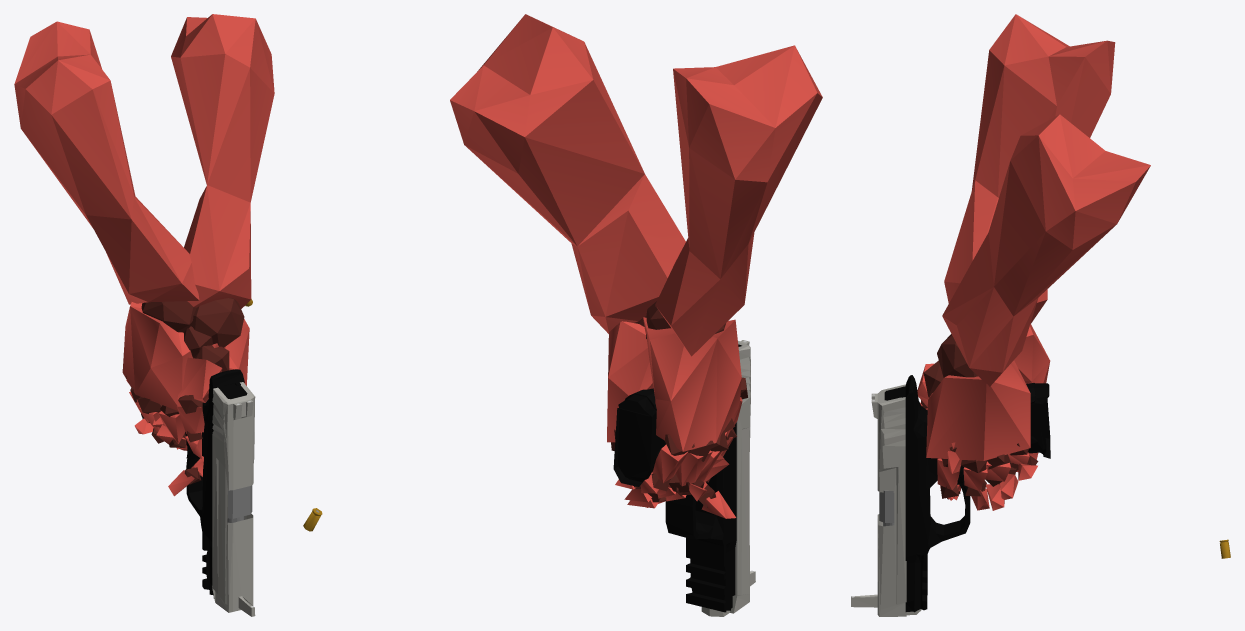
Rendered from M&P9shootLowP_000210.obj.
The picture shows the model from 3 angles, left to right: view 1: azimuth 30°, elevation 25°; view 2: azimuth 150°, elevation 25°; view 3: azimuth 270°, elevation 25°; orthographic projection. The views are drawn at different scales.
Visible parts, largest first — view 1: Beta_Surface.001_Beta_Surface.002, slide_平面.002, Beta_Joints.001_Beta_Joints.002, triger_平面.001; view 2: Beta_Surface.001_Beta_Surface.002, triger_平面.001, slide_平面.002, Beta_Joints.001_Beta_Joints.002; view 3: Beta_Surface.001_Beta_Surface.002, triger_平面.001, slide_平面.002, Beta_Joints.001_Beta_Joints.002.
Boxes of the visible parts, <box> form: Beta_Surface.001_Beta_Surface.002: <box>14,14,274,496</box>; slide_平面.002: <box>212,382,255,616</box>; Beta_Joints.001_Beta_Joints.002: <box>125,298,244,484</box>; triger_平面.001: <box>185,369,252,595</box>; Beta_Surface.001_Beta_Surface.002: <box>450,14,822,518</box>; triger_平面.001: <box>617,388,736,612</box>; slide_平面.002: <box>701,340,755,616</box>; Beta_Joints.001_Beta_Joints.002: <box>611,301,747,507</box>; Beta_Surface.001_Beta_Surface.002: <box>917,14,1150,510</box>; triger_平面.001: <box>879,375,1049,612</box>; slide_平面.002: <box>851,384,921,616</box>; Beta_Joints.001_Beta_Joints.002: <box>921,334,1038,499</box>.
Size of the model in its own units: 51.09 by 80.1 by 51.08.
